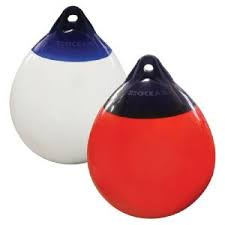buoy: (89, 93, 213, 218)
